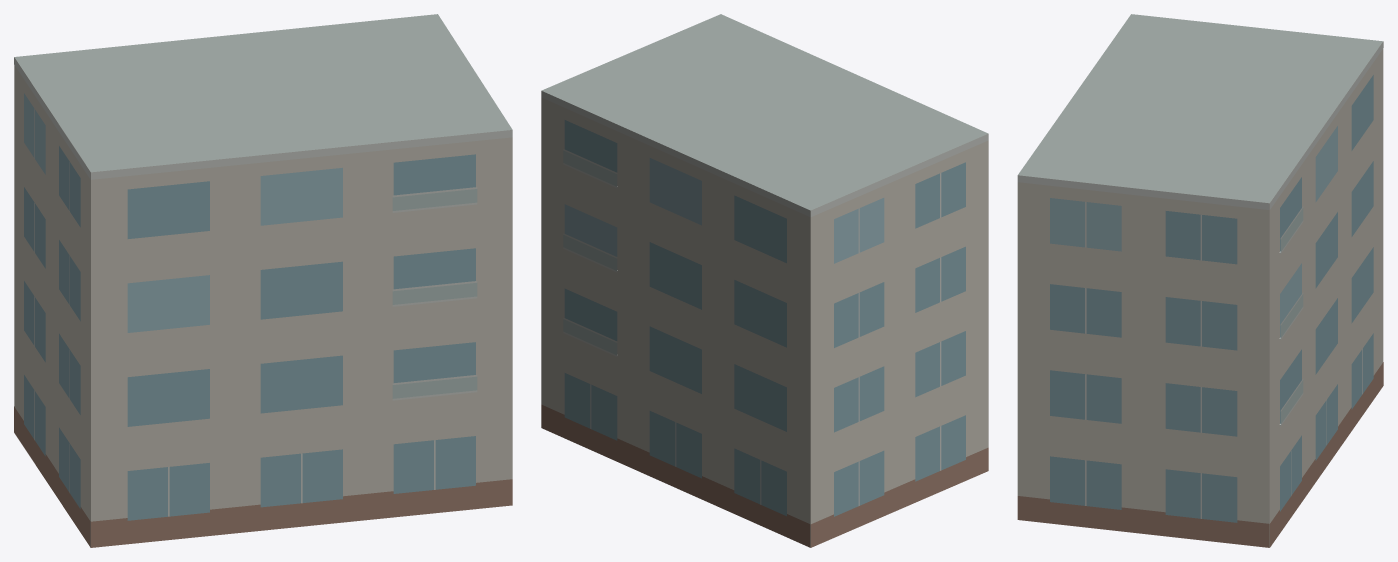
Rendered from survey-upis-33005570.glb.
3 views of the same model, side by side, from view 1: azimuth 30°, elevation 25°; view 2: azimuth 150°, elevation 25°; view 3: azimuth 270°, elevation 25° (orthographic). The views are drawn at different scales.
Parts seen in each view (by area): view 1: survey-upis-33005570.tmp; view 2: survey-upis-33005570.tmp; view 3: survey-upis-33005570.tmp.
Boxes of the visible parts, x1,y1,x2,y2 form: survey-upis-33005570.tmp: (14, 14, 512, 547); survey-upis-33005570.tmp: (541, 14, 988, 547); survey-upis-33005570.tmp: (1017, 14, 1383, 547).
Size of the model in its own units: 14.38 by 12.2 by 11.75.
